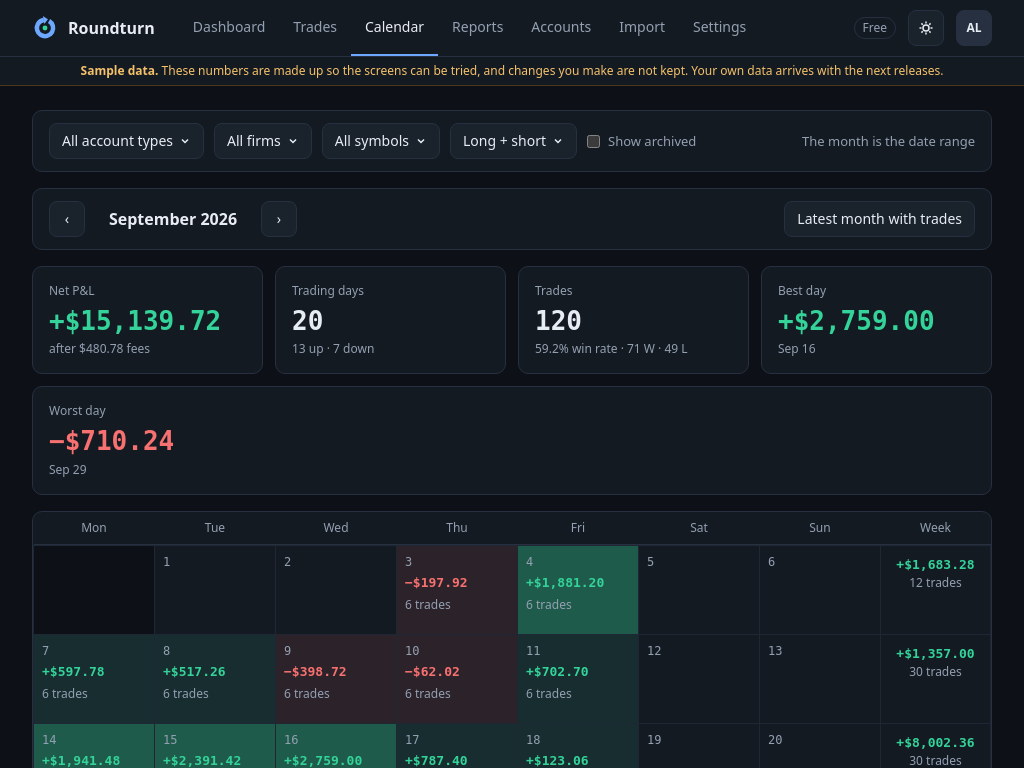
Scenario: moving between months › offers the way back to the latest month from an earlier one
Click the button "Latest month with trades" at [880, 219], box top-left (784, 201), bottom-right (975, 237)
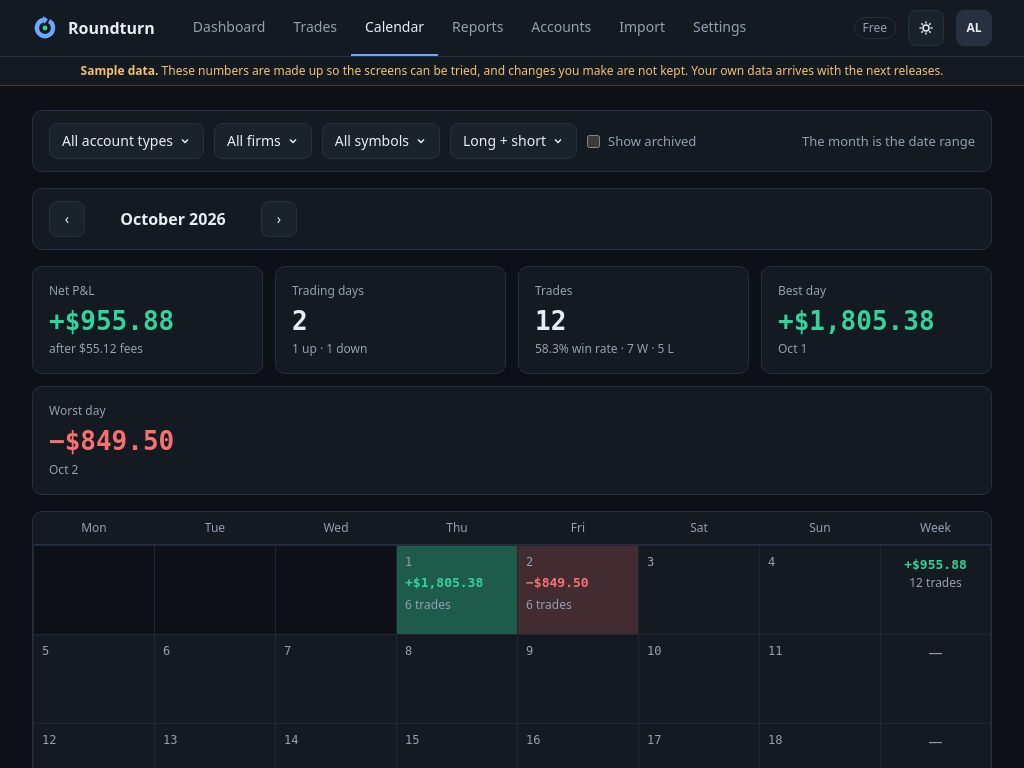
Expected: the heading "October 2026" is shown, top-left (120, 208), bottom-right (226, 230)
